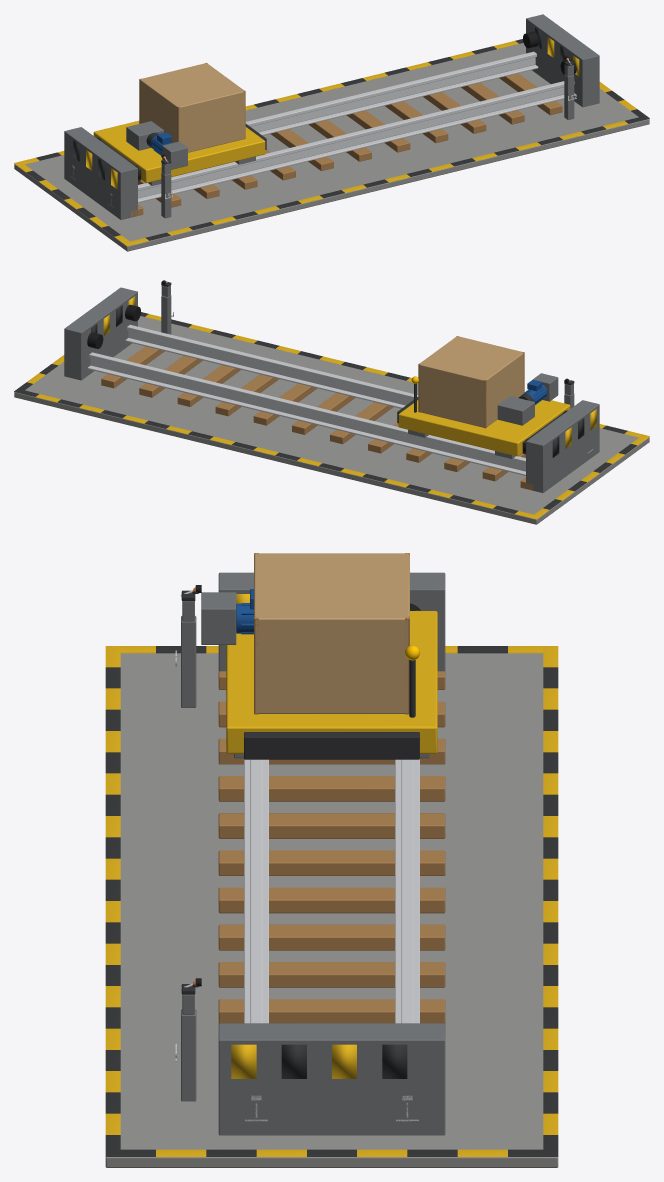
The model's file is machine_cart.glb.
3 renders of one model, top to bottom at view 1: azimuth 30°, elevation 25°; view 2: azimuth 150°, elevation 25°; view 3: azimuth 270°, elevation 25°, orthographic. The views are drawn at different scales.
Visible parts, largest first — view 1: frame, cart_mesh; view 2: frame, cart_mesh; view 3: frame, cart_mesh.
Part boxes in pixels (left/top/right/bottom): frame: left=14, top=14, right=649, bottom=251; cart_mesh: left=93, top=62, right=266, bottom=185; frame: left=14, top=280, right=649, bottom=524; cart_mesh: left=397, top=336, right=570, bottom=458; frame: left=105, top=572, right=558, bottom=1167; cart_mesh: left=201, top=553, right=437, bottom=759.
Bounding box in the file's own units: 4.8 × 0.84 × 1.8.
